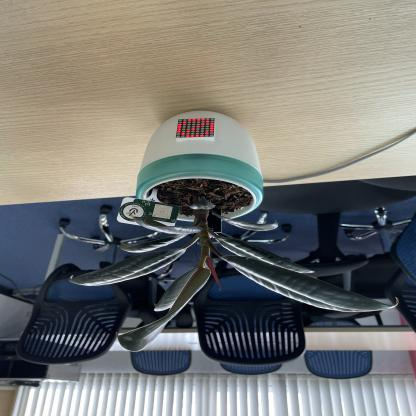Rubber: (63, 227, 398, 353)
